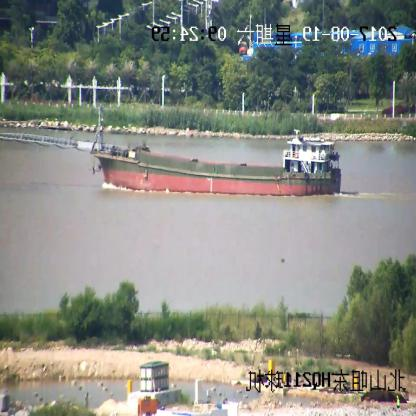Bulk Carrier: (0, 104, 341, 196)
